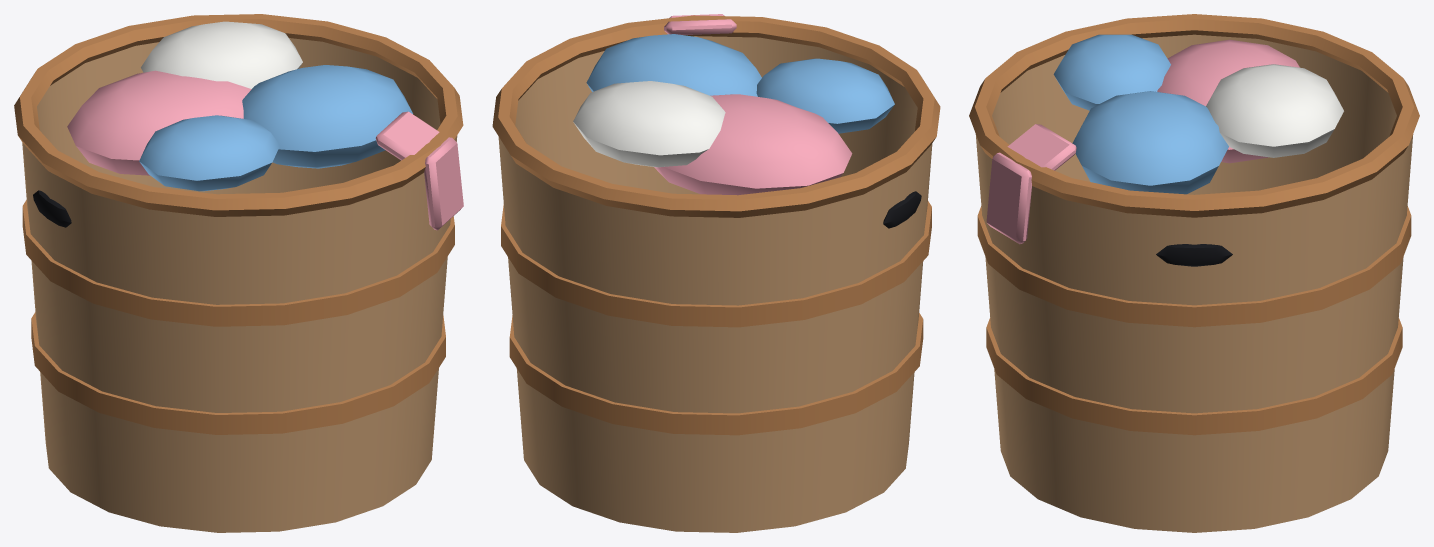
Rendered from laundry_basket.glb.
3 renders of one model, left to right at view 1: azimuth 30°, elevation 25°; view 2: azimuth 150°, elevation 25°; view 3: azimuth 270°, elevation 25°, orthographic.
Parts seen in each view (by area): view 1: body; view 2: body; view 3: body.
Boxes of the visible parts, left/top/right/bottom form: body: left=14, top=14, right=463, bottom=532; body: left=492, top=14, right=940, bottom=532; body: left=969, top=14, right=1419, bottom=532.
Bounding box in the file's own units: 51.2 × 48 × 51.2.
